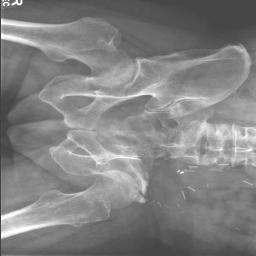cancer: (144, 161, 256, 212)
